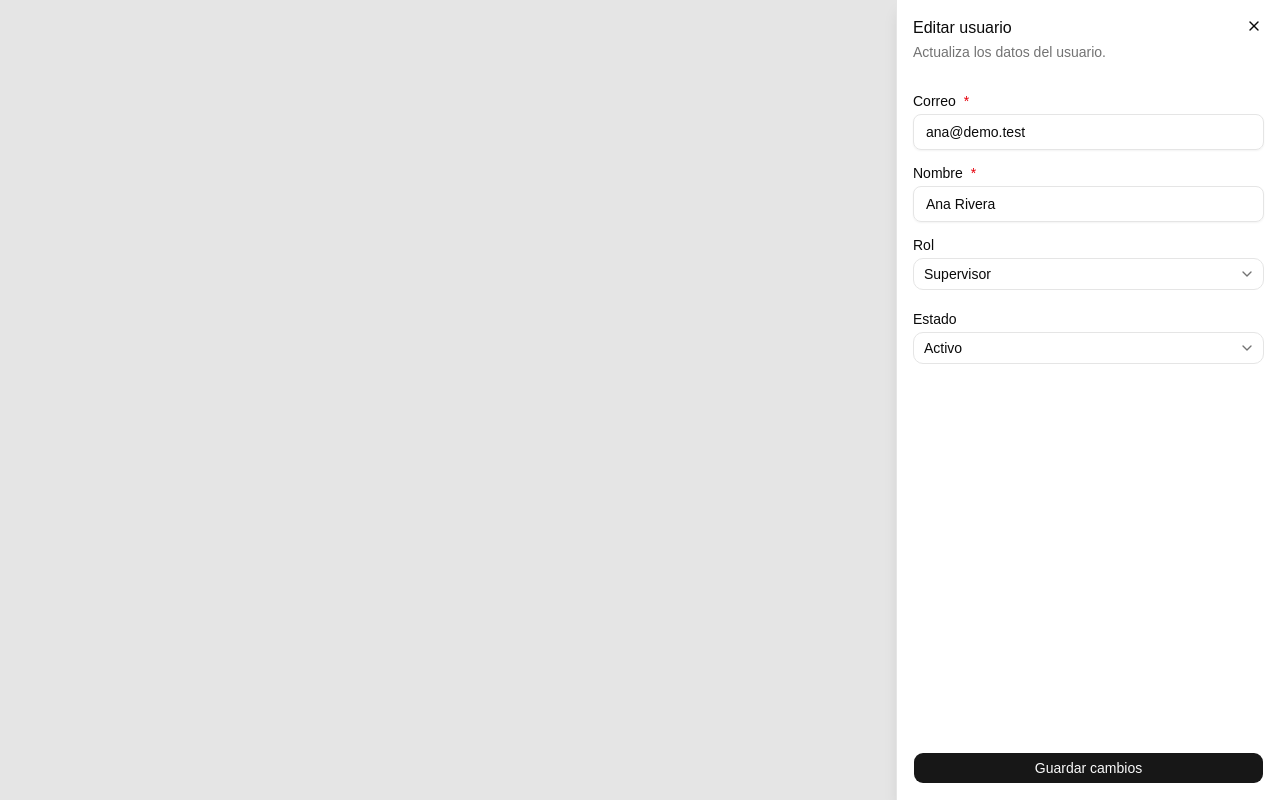
Test: UserForm status labels in es-419 › UserForm_ShouldShowTheHintInTheActiveLocale_WhenSuspendedIsSelected
The width and height of the screenshot is (1280, 800).
What coordinates should you click on to do the following:
click the dropdown with test id "user-form-status"
I would click on:
 (943, 348)
Its box is [913,332,1264,364].
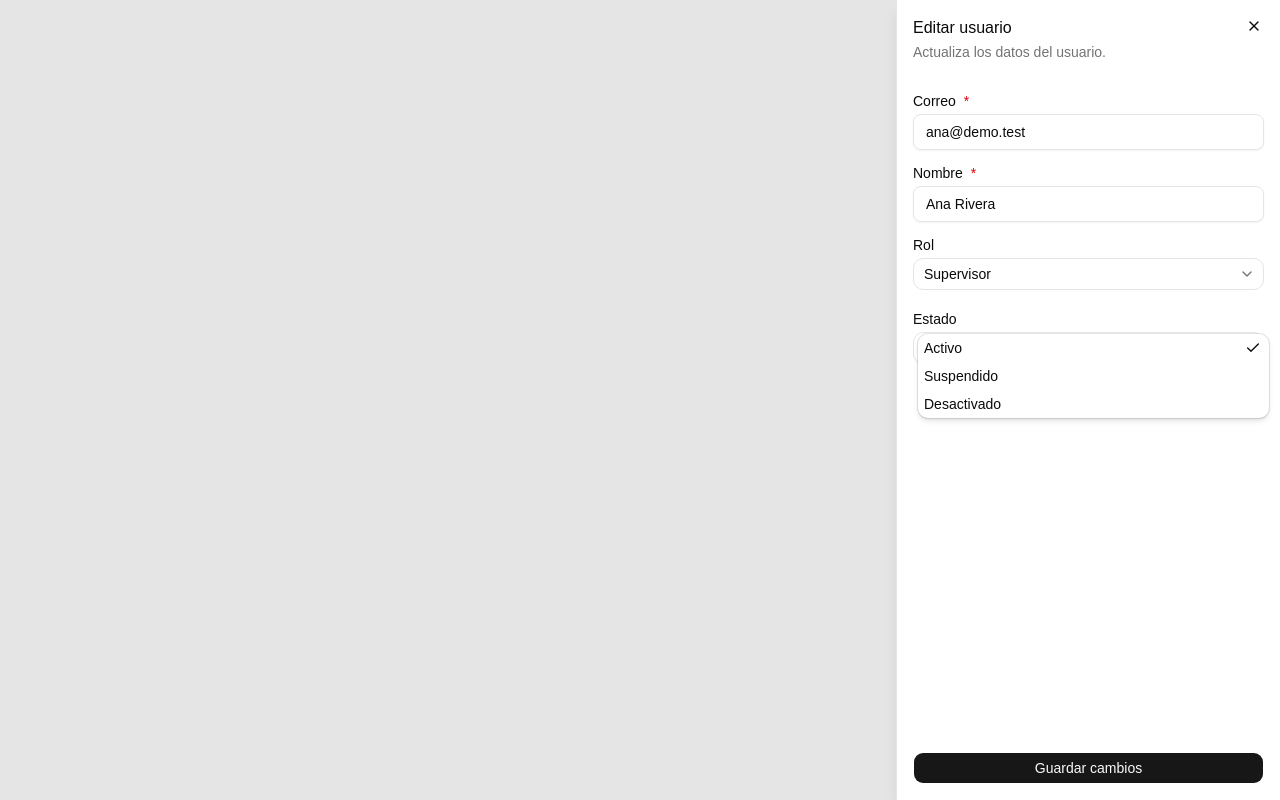
What coordinates should you click on to do the following:
click the option with test id "user-form-status-option-Suspended"
I would click on:
 (961, 376)
Its box is [924,368,998,384].
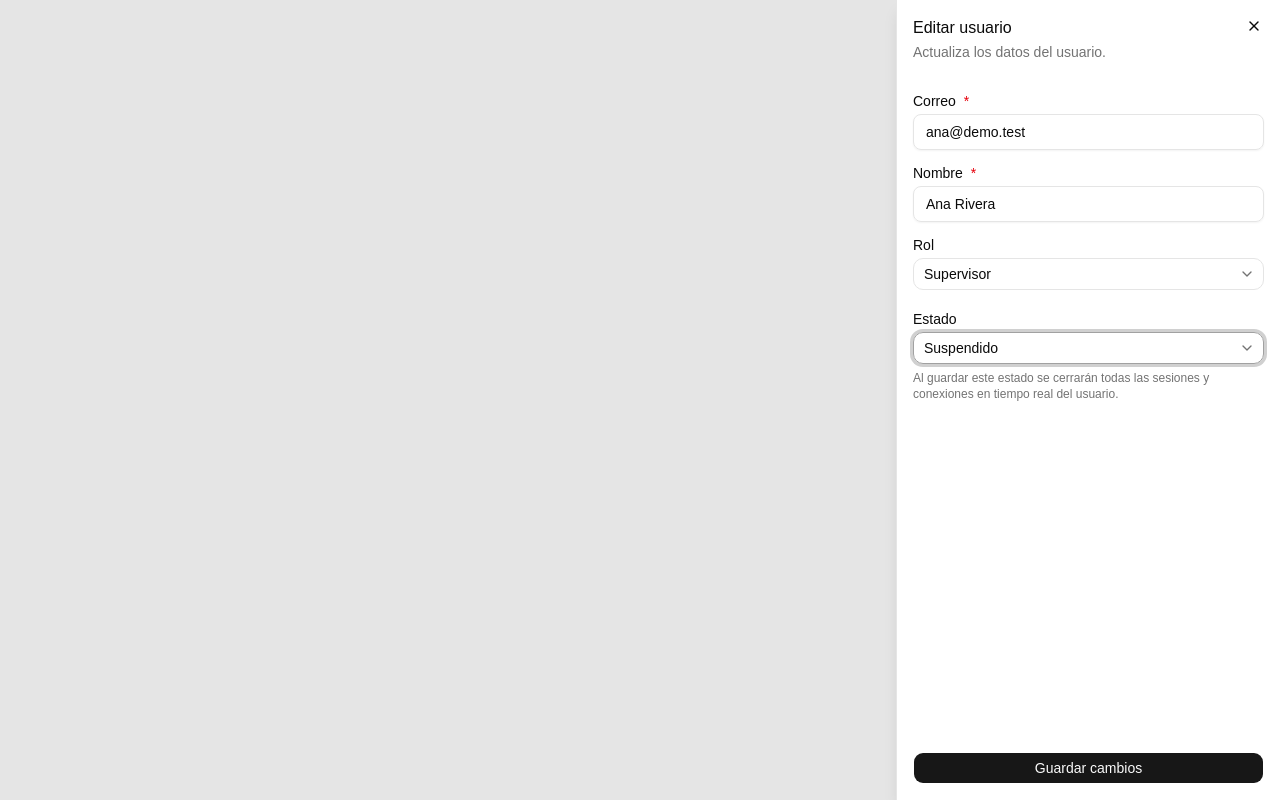
Result: no options are shown
Result: the text with test id "user-form-status-hint" shows "Al guardar este estado se cerrarán todas las sesiones y conexiones en tiempo real del usuario." at [913,371,1209,401]
